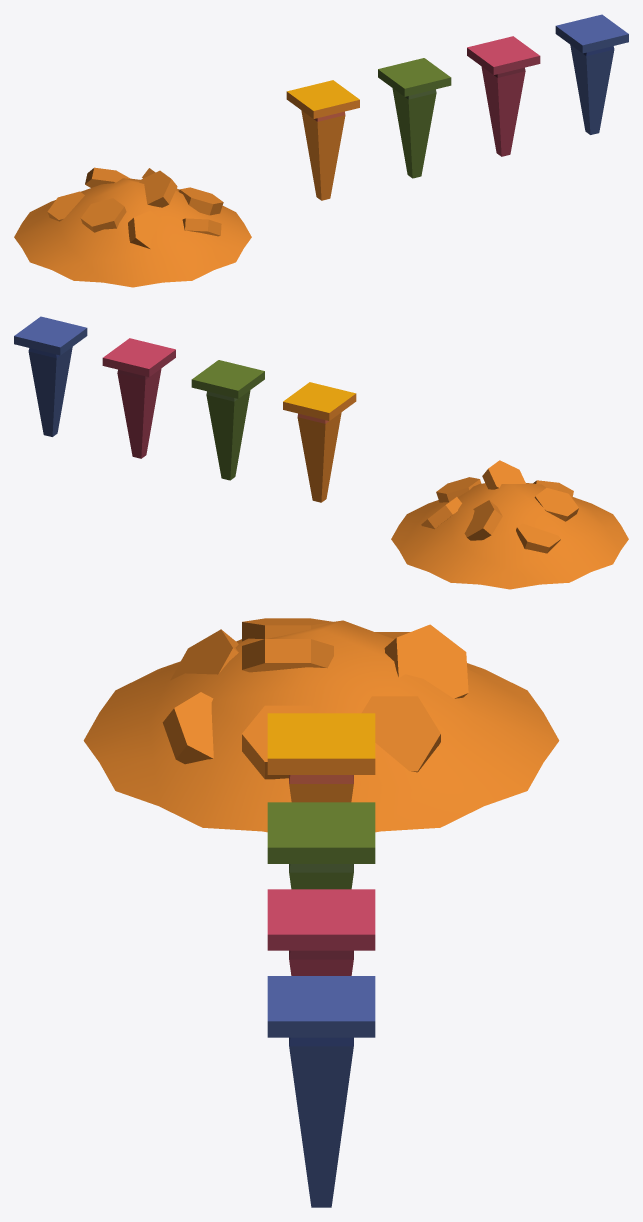
File: Nogi_Gold.fbx
3 views of the same model, one above another, from view 1: azimuth 30°, elevation 25°; view 2: azimuth 150°, elevation 25°; view 3: azimuth 270°, elevation 25° (orthographic). The views are drawn at different scales.
Visible parts, largest first — view 1: SM_DL_Kucha_Gold, SM_DL_Pirat_Noga_Blue, SM_DL_Pirat_Noga_Gold, SM_DL_Pirat_Noga_Pink, SM_DL_Pirat_Noga_Green; view 2: SM_DL_Kucha_Gold, SM_DL_Pirat_Noga_Blue, SM_DL_Pirat_Noga_Gold, SM_DL_Pirat_Noga_Pink, SM_DL_Pirat_Noga_Green; view 3: SM_DL_Kucha_Gold, SM_DL_Pirat_Noga_Blue, SM_DL_Pirat_Noga_Gold, SM_DL_Pirat_Noga_Green, SM_DL_Pirat_Noga_Pink.
Part boxes in pixels (x1,y1,x2,y2): SM_DL_Kucha_Gold: [14, 167, 251, 287]; SM_DL_Pirat_Noga_Blue: [555, 14, 628, 134]; SM_DL_Pirat_Noga_Gold: [286, 80, 359, 200]; SM_DL_Pirat_Noga_Pink: [467, 36, 540, 156]; SM_DL_Pirat_Noga_Green: [378, 58, 451, 178]; SM_DL_Kucha_Gold: [391, 460, 628, 589]; SM_DL_Pirat_Noga_Blue: [14, 316, 87, 436]; SM_DL_Pirat_Noga_Gold: [283, 382, 356, 502]; SM_DL_Pirat_Noga_Pink: [102, 338, 175, 458]; SM_DL_Pirat_Noga_Green: [191, 360, 264, 480]; SM_DL_Kucha_Gold: [83, 618, 559, 832]; SM_DL_Pirat_Noga_Blue: [267, 976, 375, 1207]; SM_DL_Pirat_Noga_Gold: [267, 713, 375, 802]; SM_DL_Pirat_Noga_Green: [267, 802, 375, 889]; SM_DL_Pirat_Noga_Pink: [267, 889, 375, 975].
Bounding box in the file's own units: 2.14 × 0.3568 × 0.7518.
